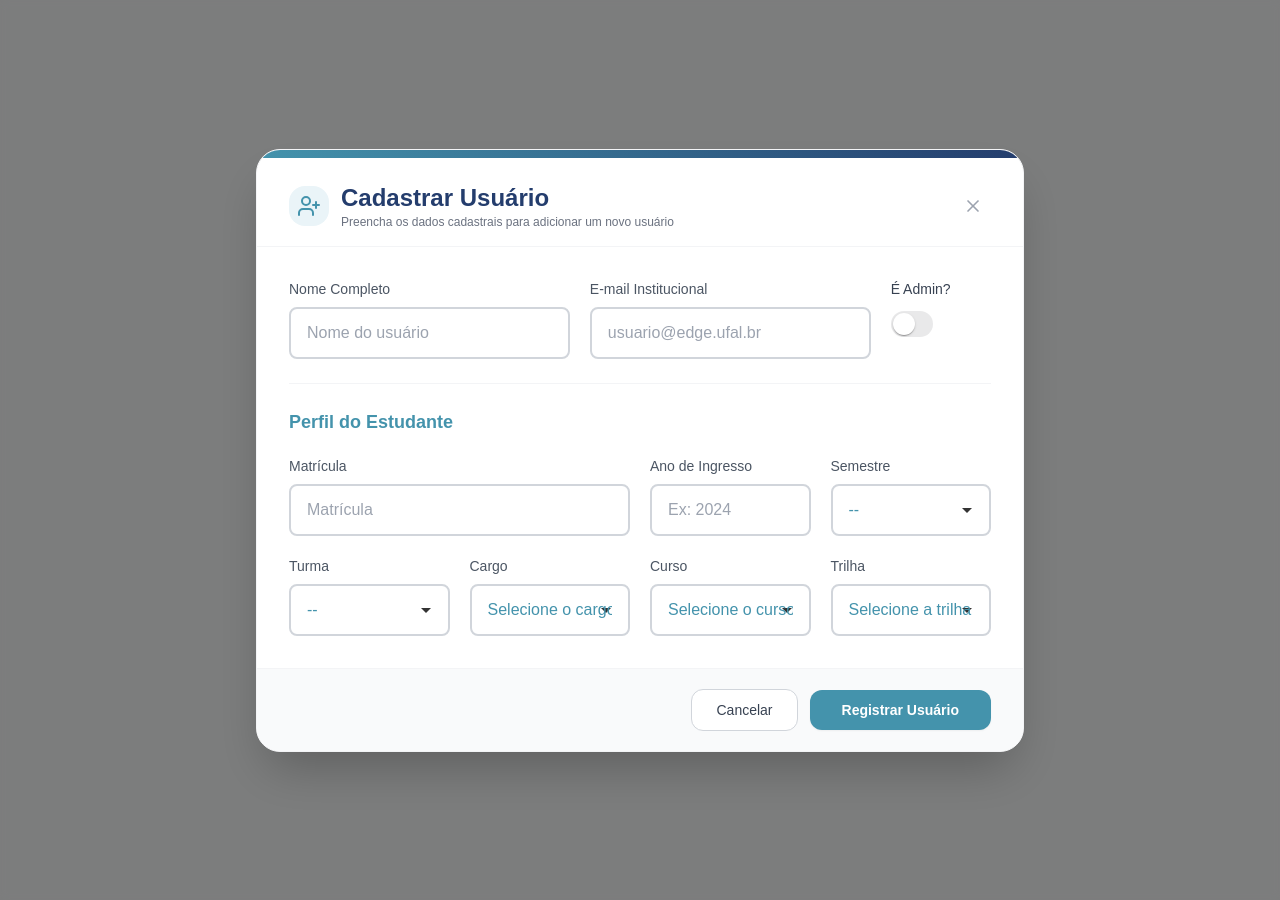
Test: CadastrarUsuarioModal Component › registers a student user successfully from modal
In the field with placeholder "Nome do usuário": (429, 332) [289,306,570,358], type "Aluno Novo"
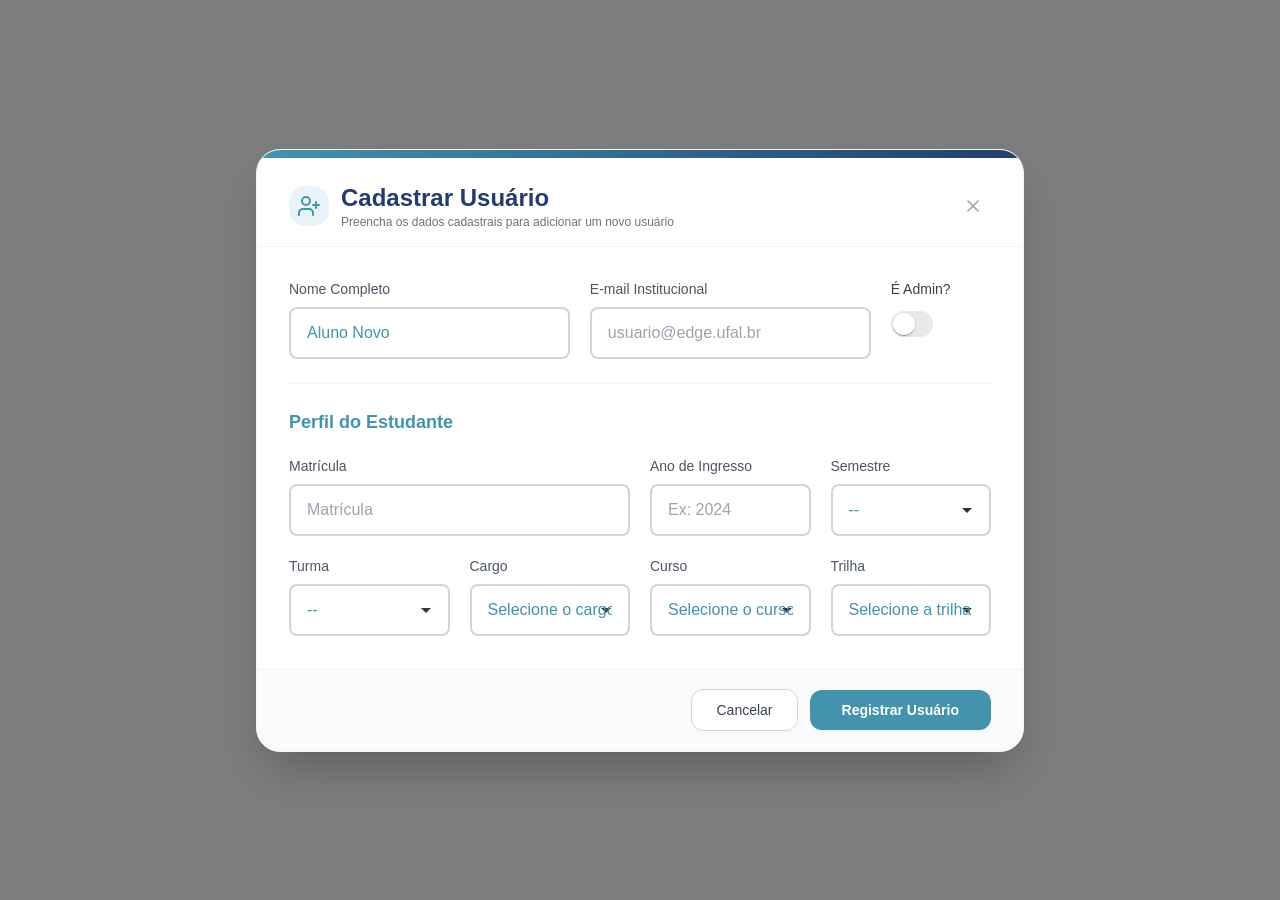
In the field with placeholder "usuario@edge.ufal.br": (730, 332) [590,306,871,358], type "novo@edge.ufal.br"
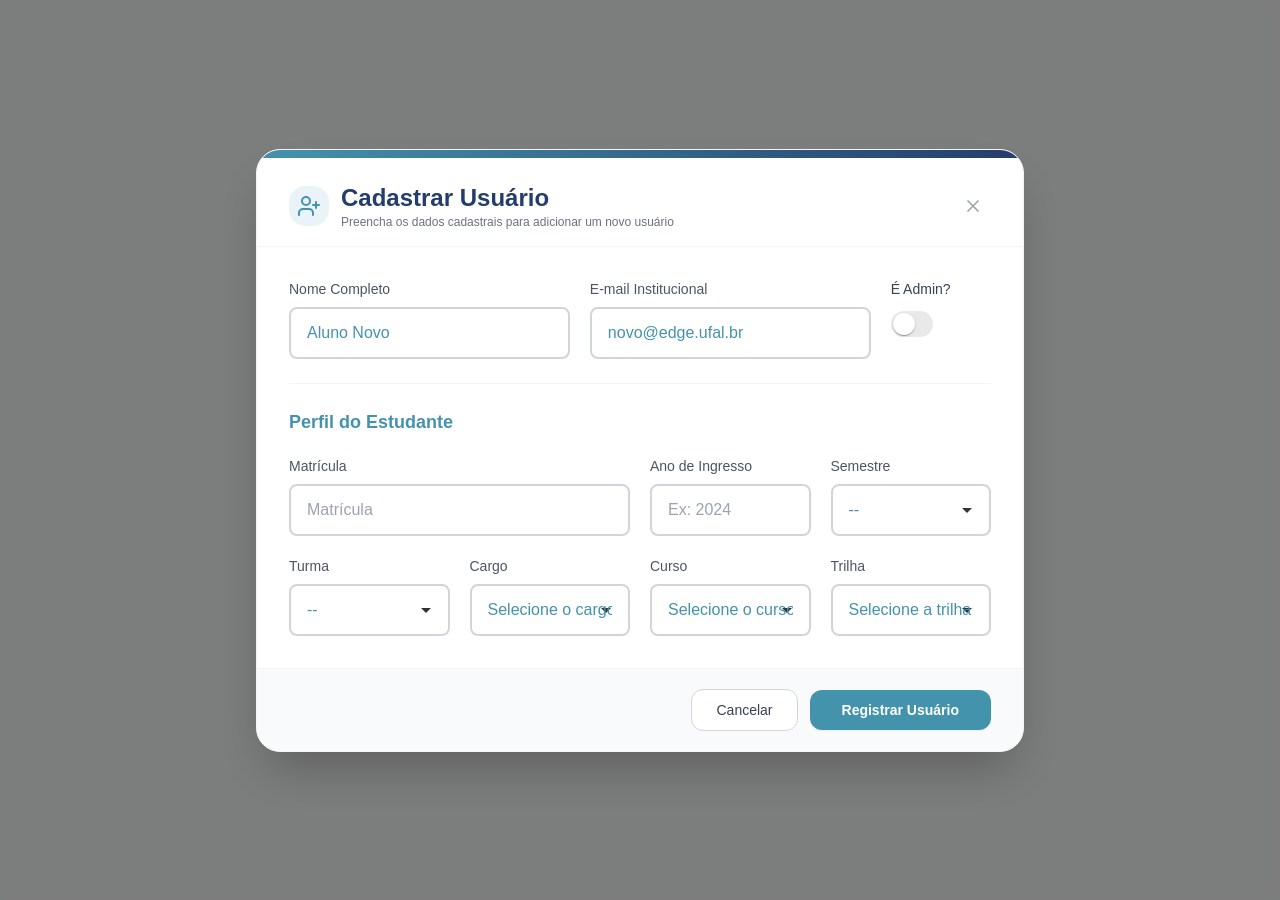
In the field with placeholder "Matrícula": (460, 510) [289,484,630,536], type "1234567"
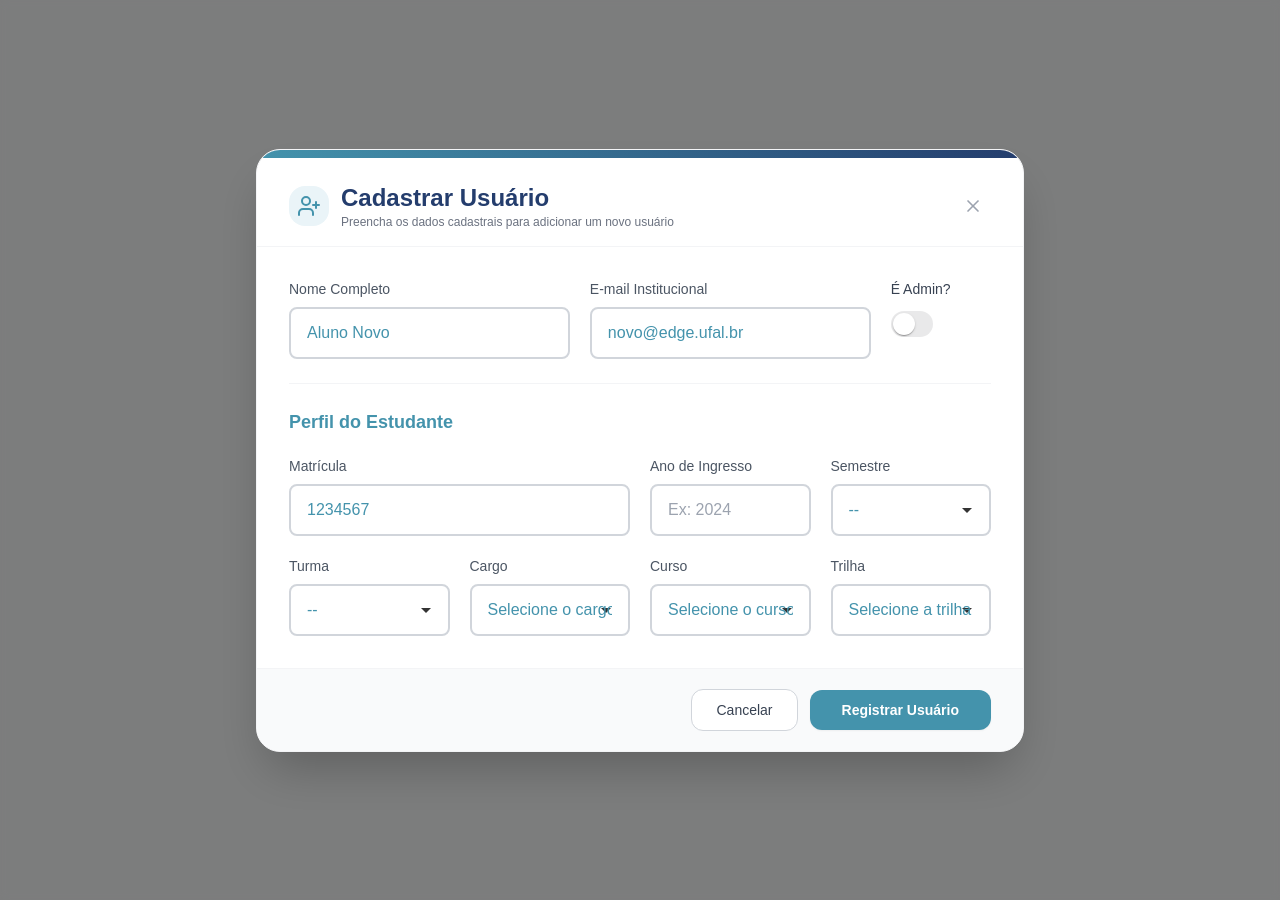
Click the button "Registrar Usuário": (900, 710) [810,690,991,730]
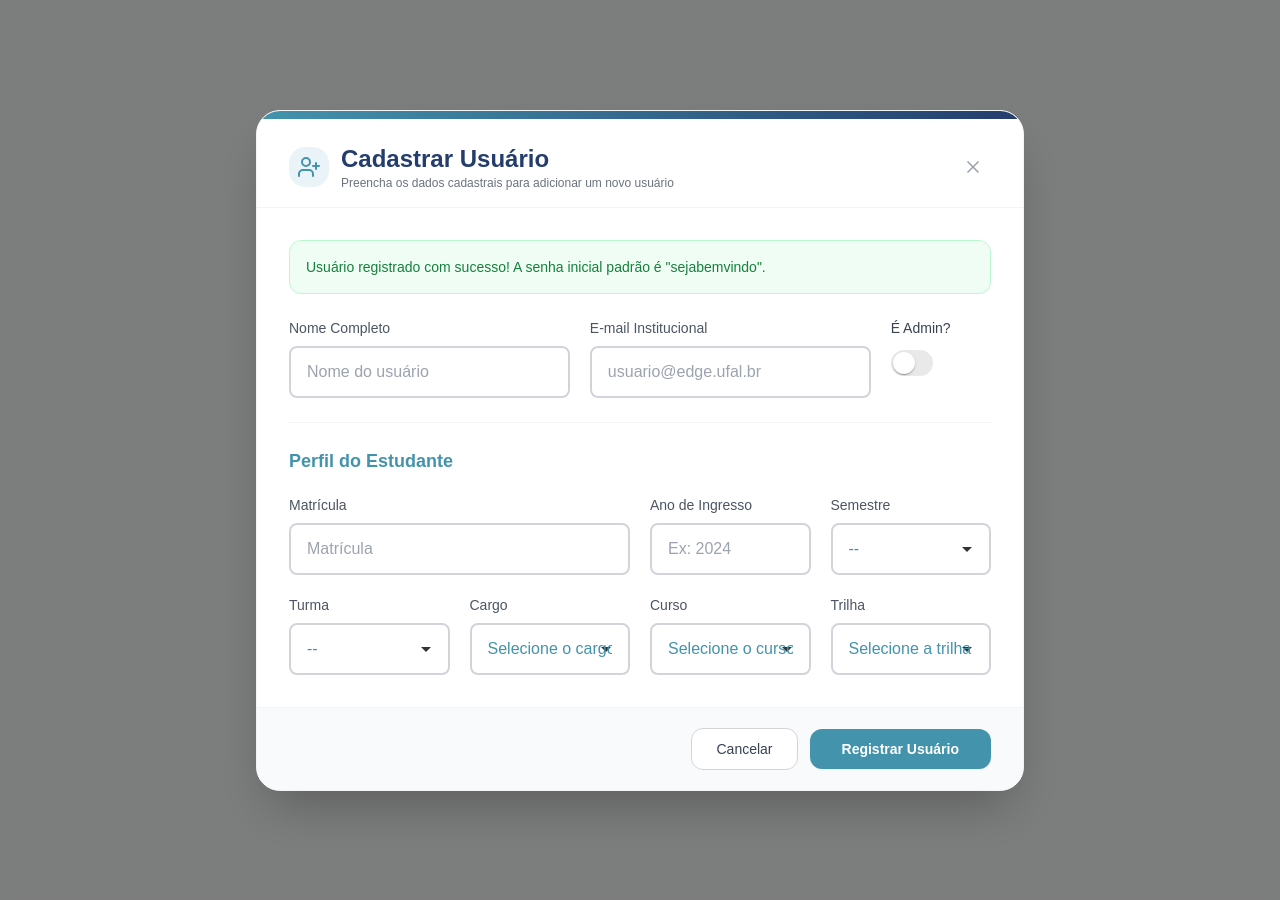
Result: the text "registrado com sucesso" is shown at [306,258,766,274]
